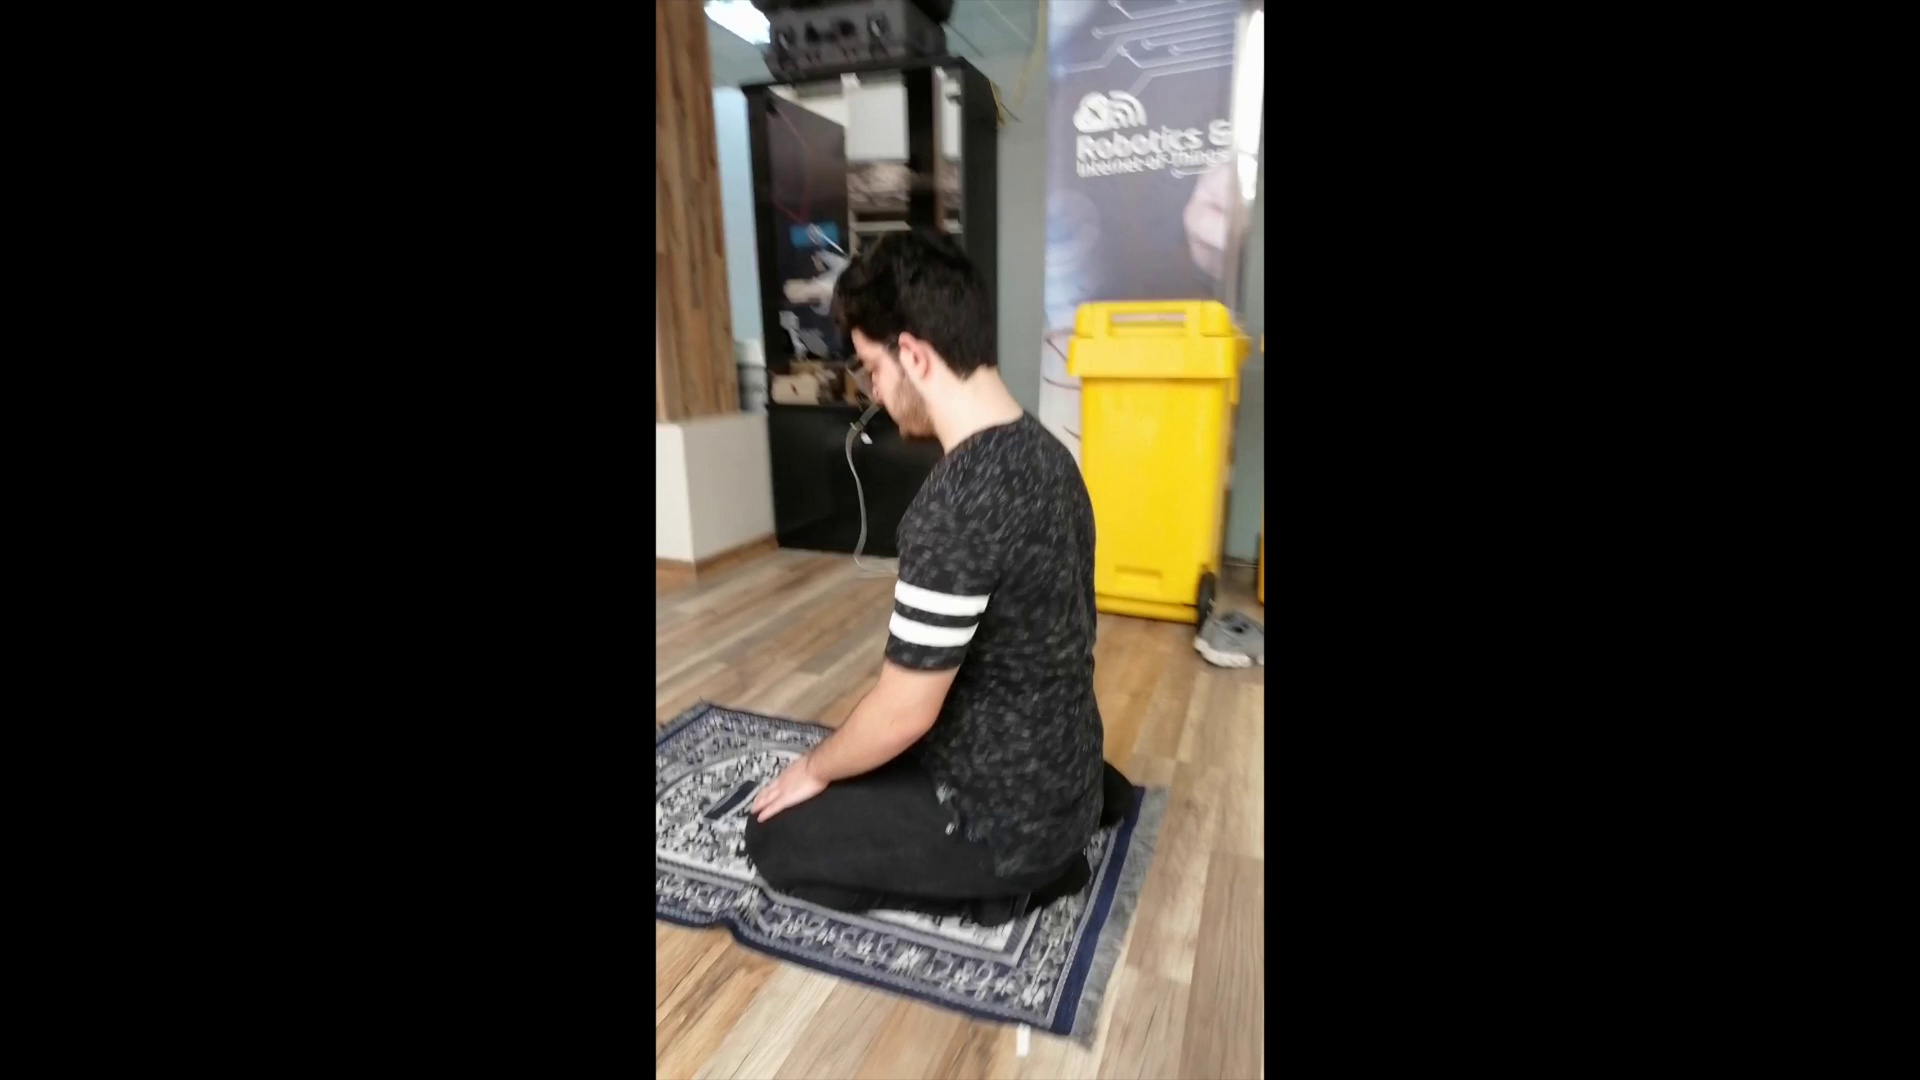sitting: (735, 218, 1151, 934)
